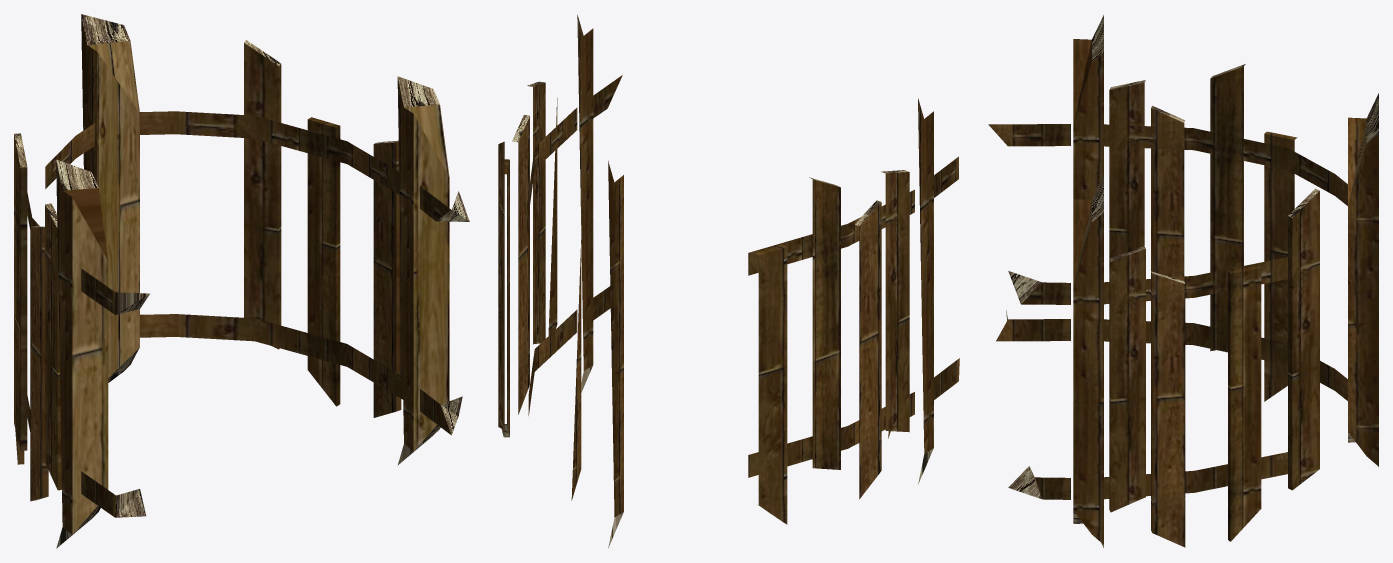
3 renders of one model, left to right at view 1: azimuth 30°, elevation 25°; view 2: azimuth 150°, elevation 25°; view 3: azimuth 270°, elevation 25°, orthographic. The views are drawn at different scales.
Visible parts, largest first — view 1: model_Object13; view 2: model_Object13; view 3: model_Object13.
Part boxes in pixels (box(x1,y1,x2,y2)): model_Object13: box(14, 14, 469, 548); model_Object13: box(498, 14, 959, 547); model_Object13: box(988, 15, 1378, 547).
Bounding box in the file's own units: 3.19 × 3.14 × 2.97.
3 materials, 3 textured.
